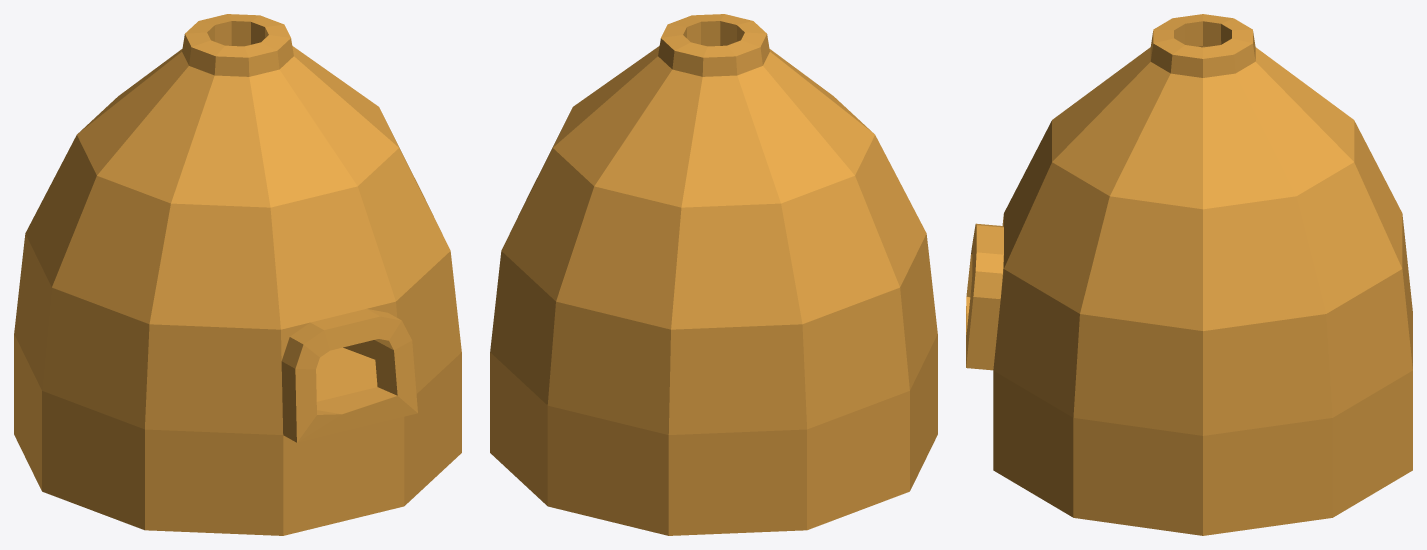
The model's file is egypt-oven.fbx.
The picture shows the model from 3 angles, left to right: view 1: azimuth 30°, elevation 25°; view 2: azimuth 150°, elevation 25°; view 3: azimuth 270°, elevation 25°; orthographic projection.
Visible parts, largest first — view 1: egypt-oven; view 2: egypt-oven; view 3: egypt-oven.
Part boxes in pixels (box(x1,y1,x2,y2)): egypt-oven: box(14, 14, 461, 535); egypt-oven: box(490, 14, 937, 535); egypt-oven: box(966, 14, 1412, 535).
Size of the model in its own units: 2 by 2 by 1.99.
